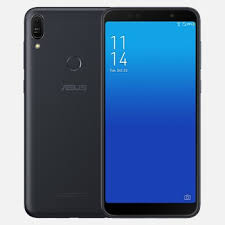asus: (97, 1, 205, 225), (23, 4, 103, 222)
